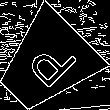P_SW: (15, 34, 76, 95)
